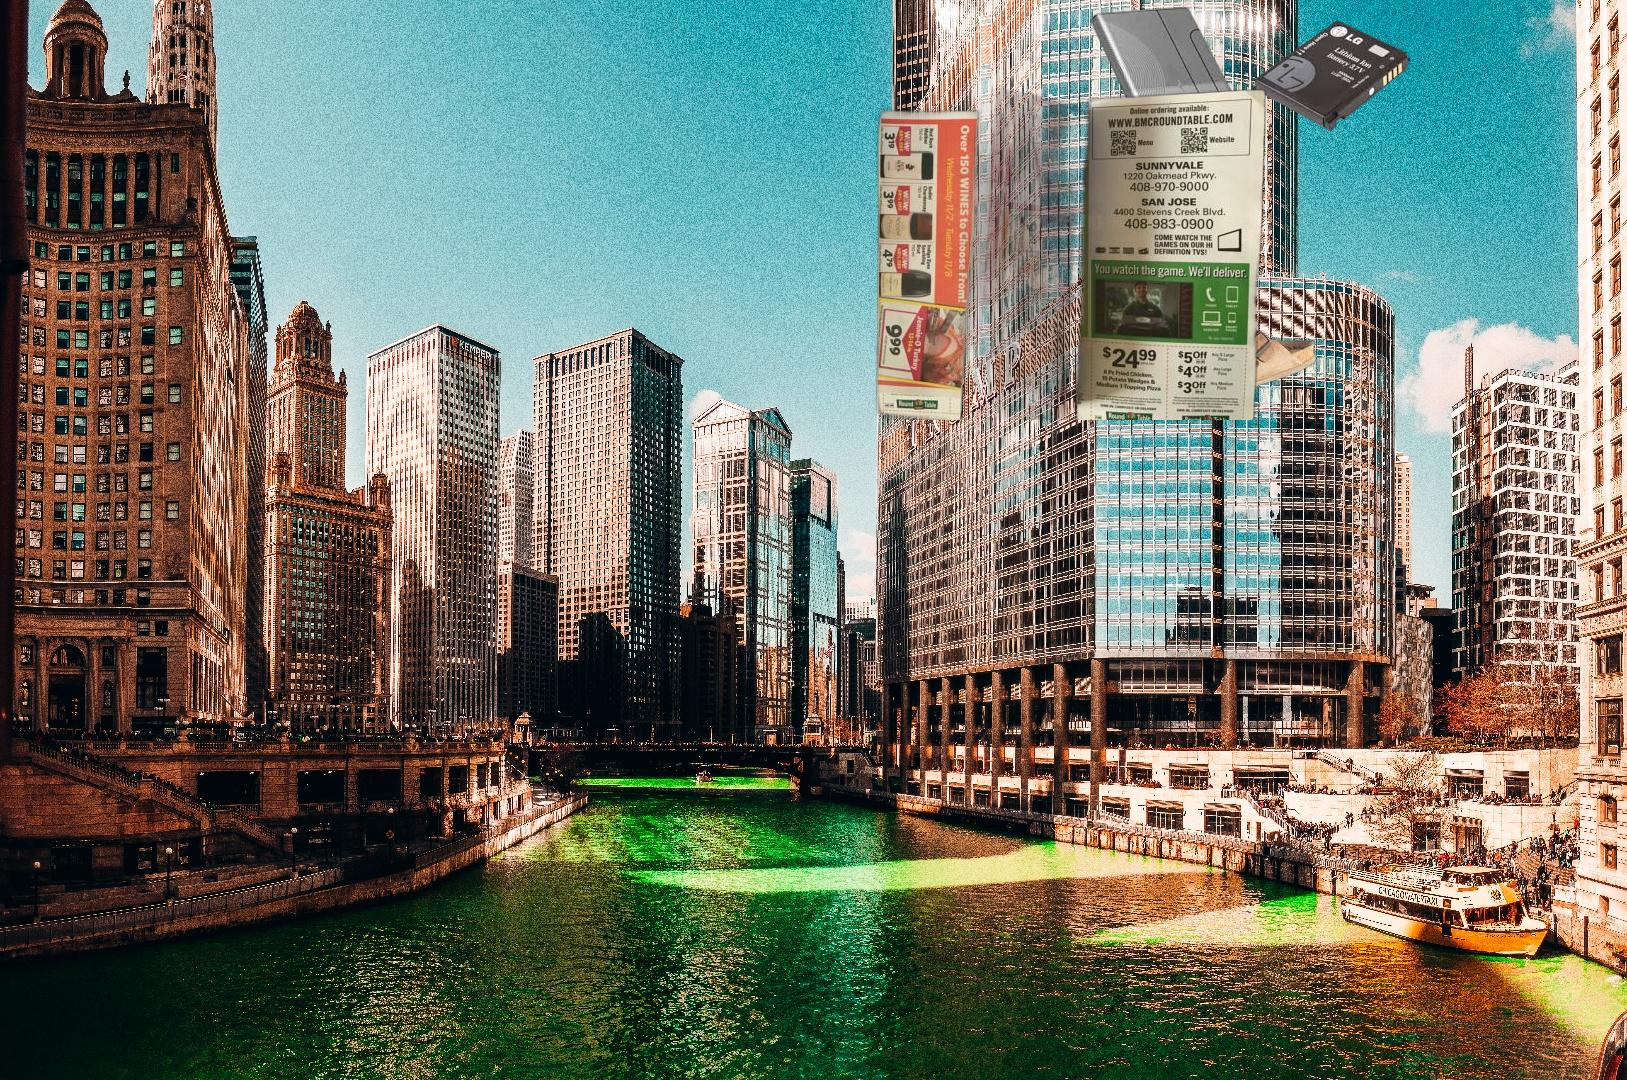battery: (1089, 6, 1412, 151)
paper: (873, 74, 1270, 419)
shoes: (1077, 310, 1318, 393)
